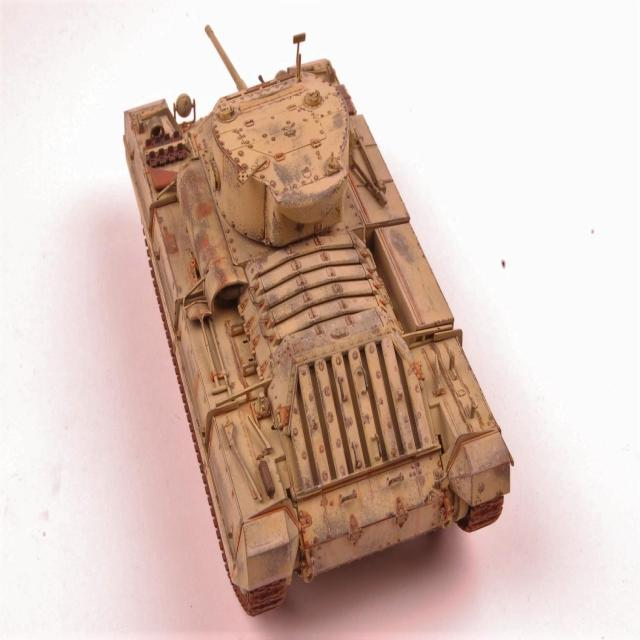Tanks: (110, 23, 520, 580)
